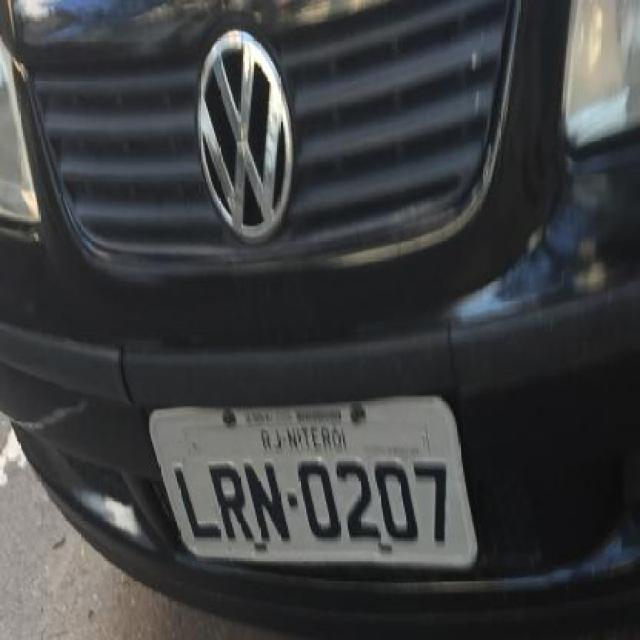old_plate: (139, 391, 488, 578)
